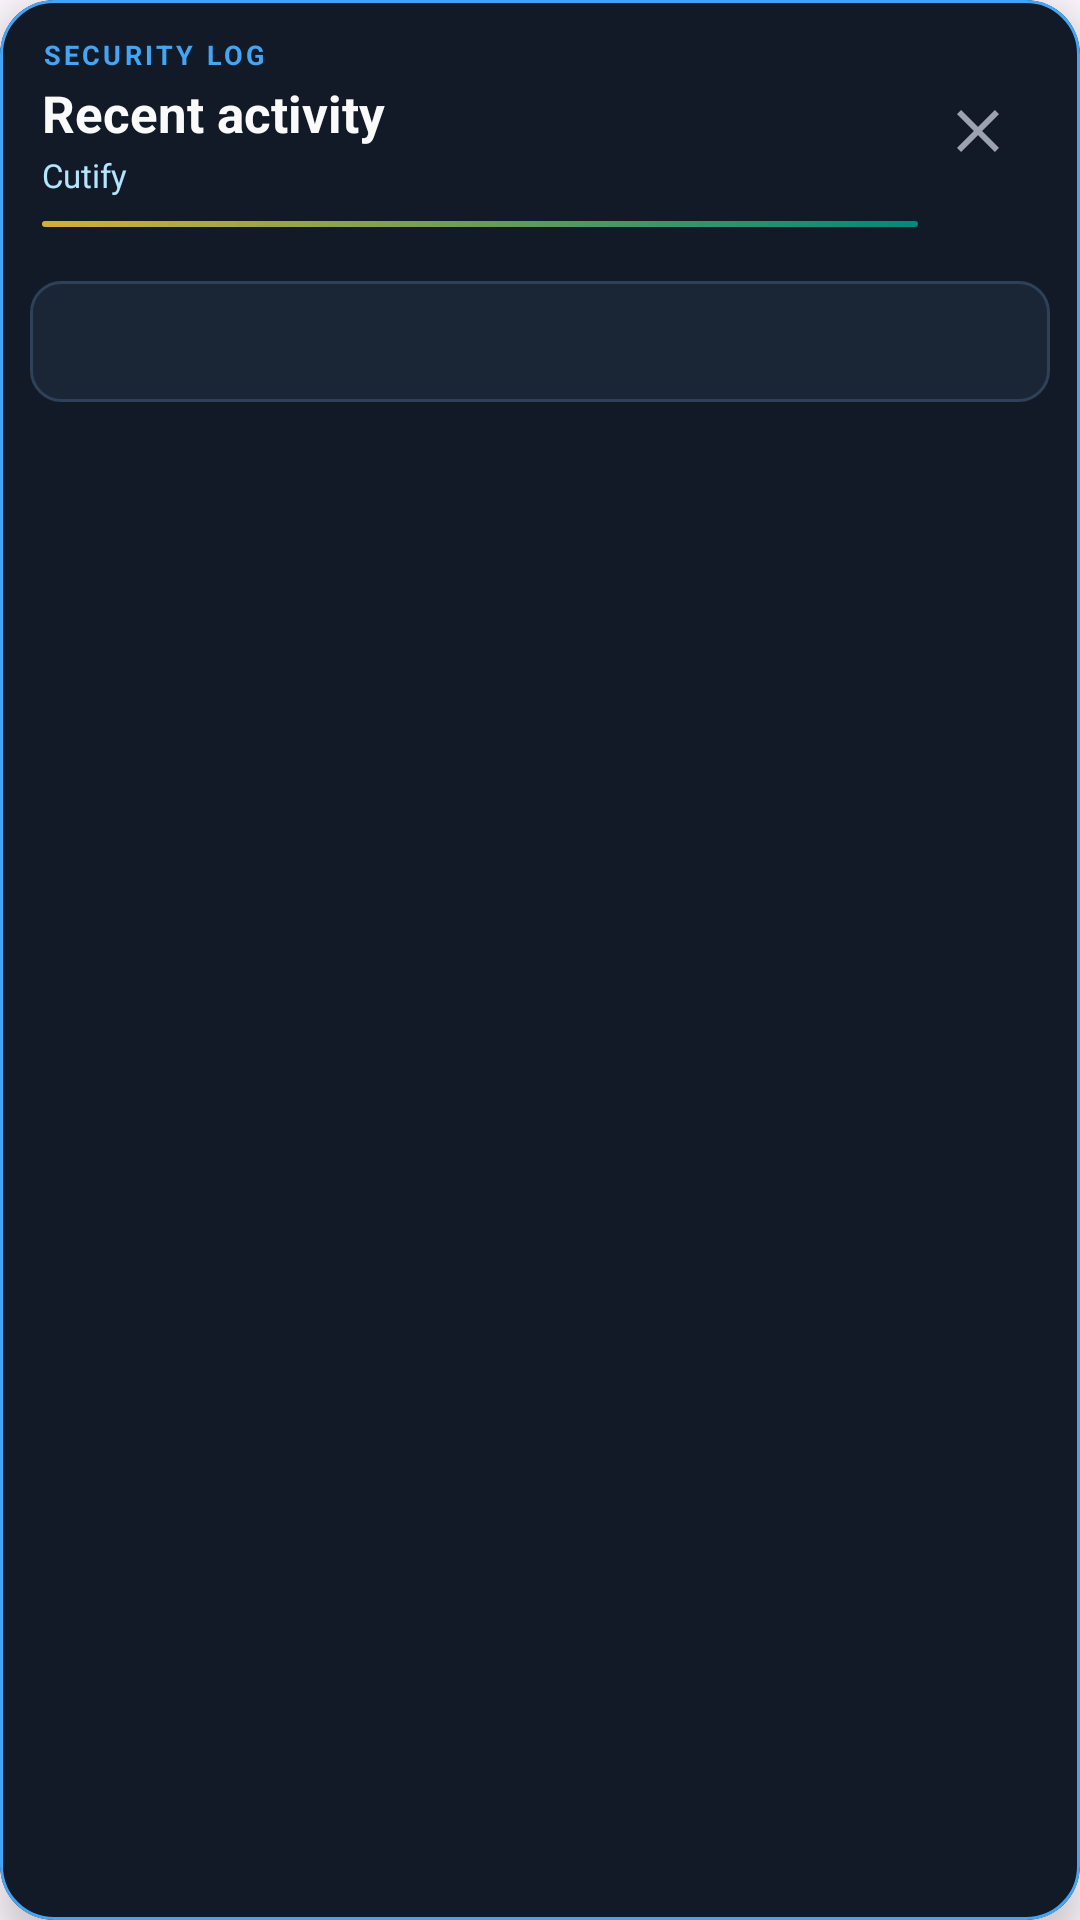

Where icons sit on this 1080x1920 app screen, as (x1, y1, x2, y2):
Close: (957, 110, 999, 152)
